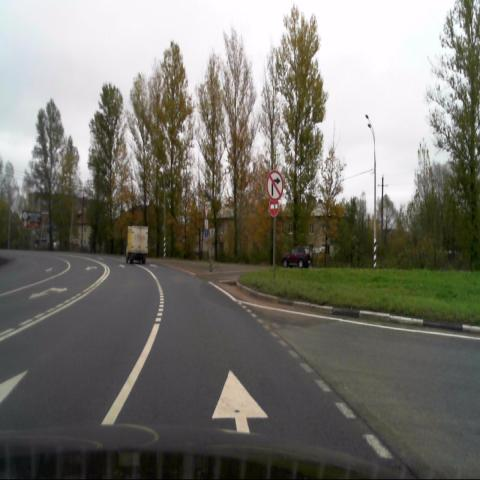3_18: (266, 171, 282, 201)
